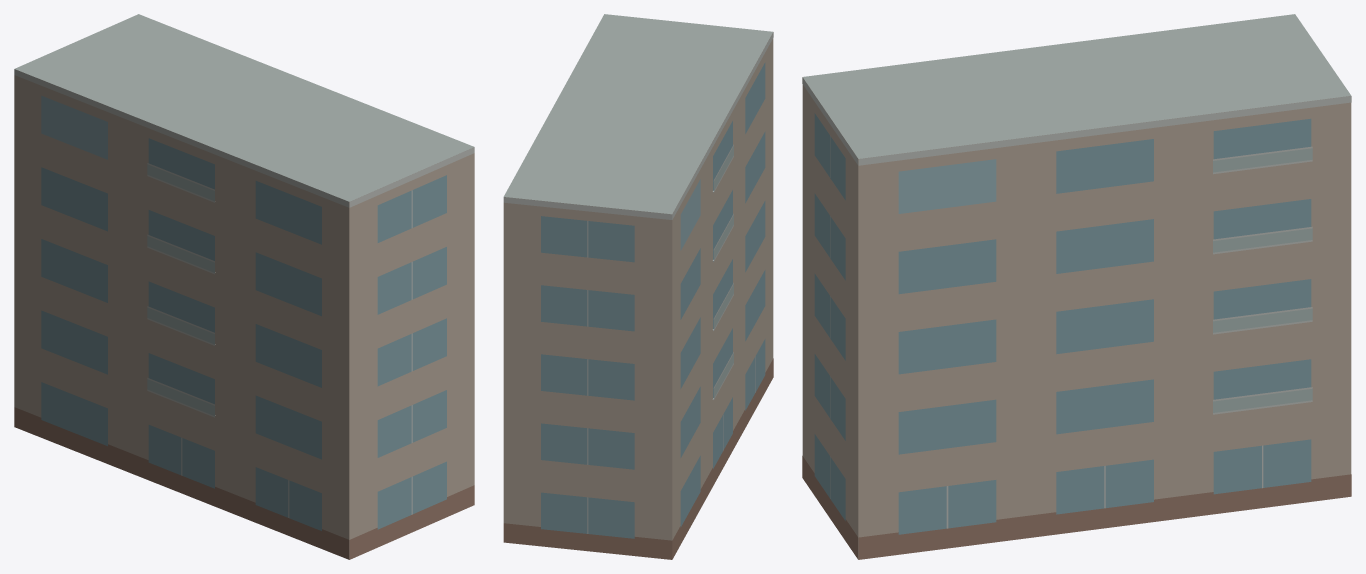
Rendered from survey-upis-32989335.glb.
3 views of the same model, side by side, from view 1: azimuth 30°, elevation 25°; view 2: azimuth 150°, elevation 25°; view 3: azimuth 270°, elevation 25° (orthographic). The views are drawn at different scales.
Parts seen in each view (by area): view 1: survey-upis-32989335.tmp; view 2: survey-upis-32989335.tmp; view 3: survey-upis-32989335.tmp.
Boxes of the visible parts, left/top/right/bottom form: survey-upis-32989335.tmp: left=14, top=14, right=474, bottom=559; survey-upis-32989335.tmp: left=503, top=14, right=773, bottom=559; survey-upis-32989335.tmp: left=802, top=14, right=1351, bottom=559.
Bounding box in the file's own units: 11.26 × 14.5 × 18.01.
